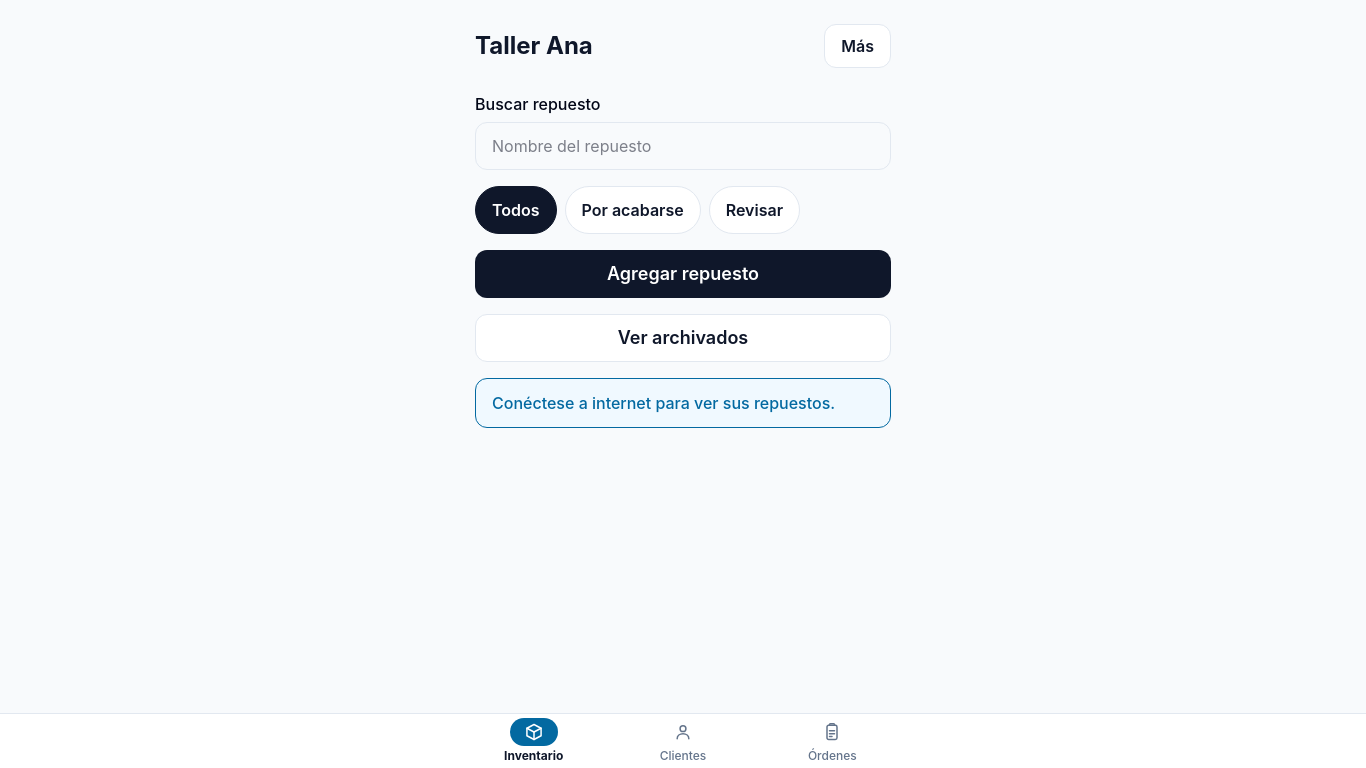
it: AppShell › still renders the shell and switches tabs while offline, with no network request of its own
Expected: the text "Taller Ana" is shown, [475, 30, 593, 62]
Click the link "Órdenes" at x=832, y=742, box [808, 722, 857, 763]
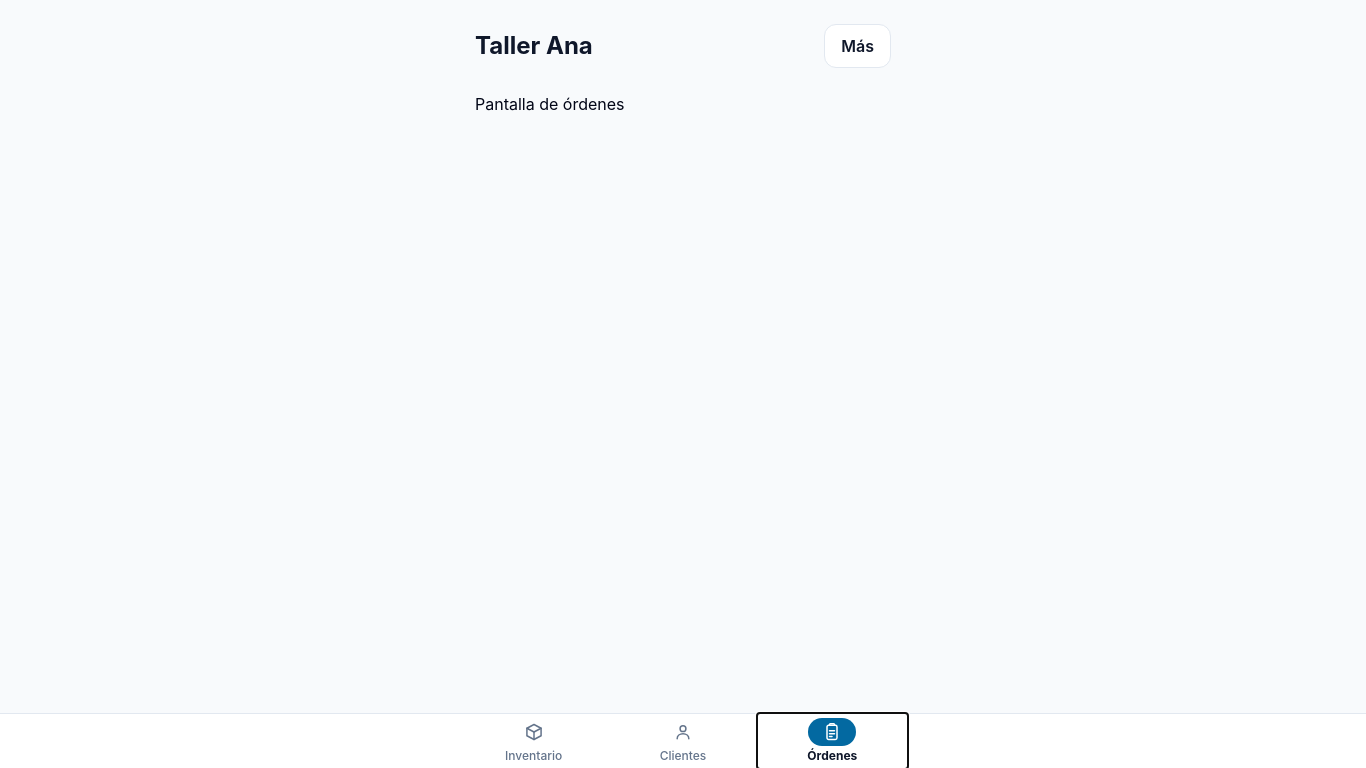
Result: the text "Pantalla de órdenes" is shown at [475, 94, 624, 114]
